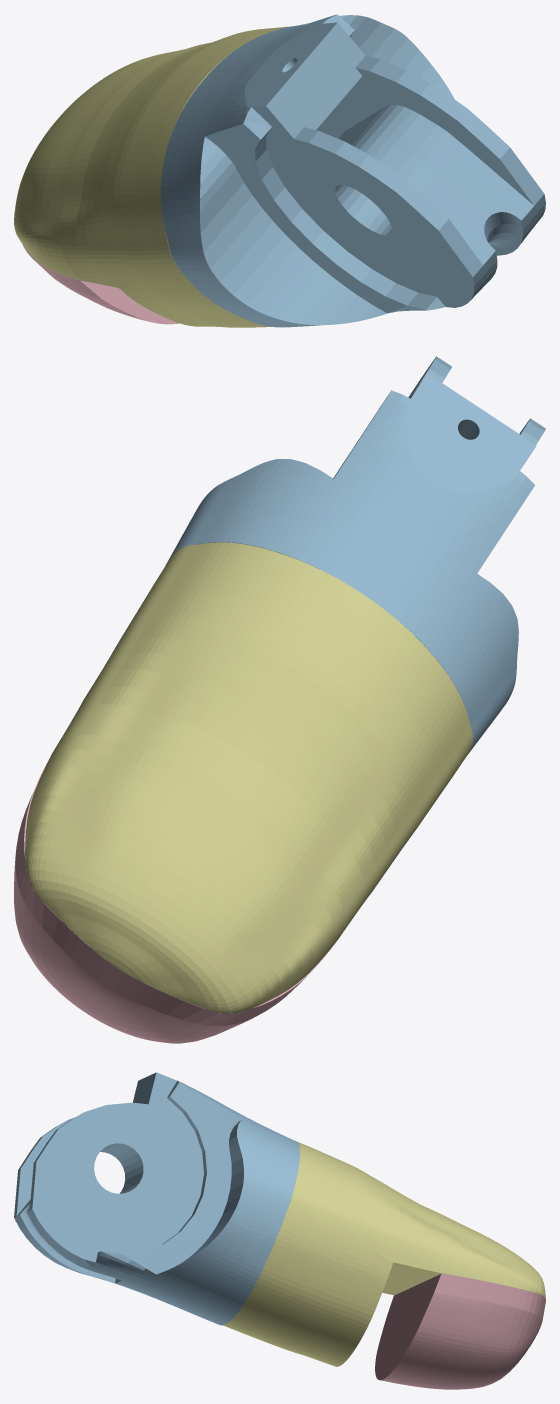
File: i02_rightHand_majeureTip_visual.obj
3 renders of one model, top to bottom at view 1: azimuth 30°, elevation 25°; view 2: azimuth 150°, elevation 25°; view 3: azimuth 270°, elevation 25°, orthographic. The views are drawn at different scales.
Parts seen in each view (by area): view 1: i02_rightHand_majeureTip_visual.001; view 2: i02_rightHand_majeureTip_visual.001; view 3: i02_rightHand_majeureTip_visual.001.
Part boxes in pixels (box(x1,y1,x2,y2)): i02_rightHand_majeureTip_visual.001: box(14, 14, 545, 327); i02_rightHand_majeureTip_visual.001: box(14, 356, 545, 1043); i02_rightHand_majeureTip_visual.001: box(14, 1072, 545, 1389).
Bounding box in the file's own units: 0.158 × 0.2378 × 0.3769.
